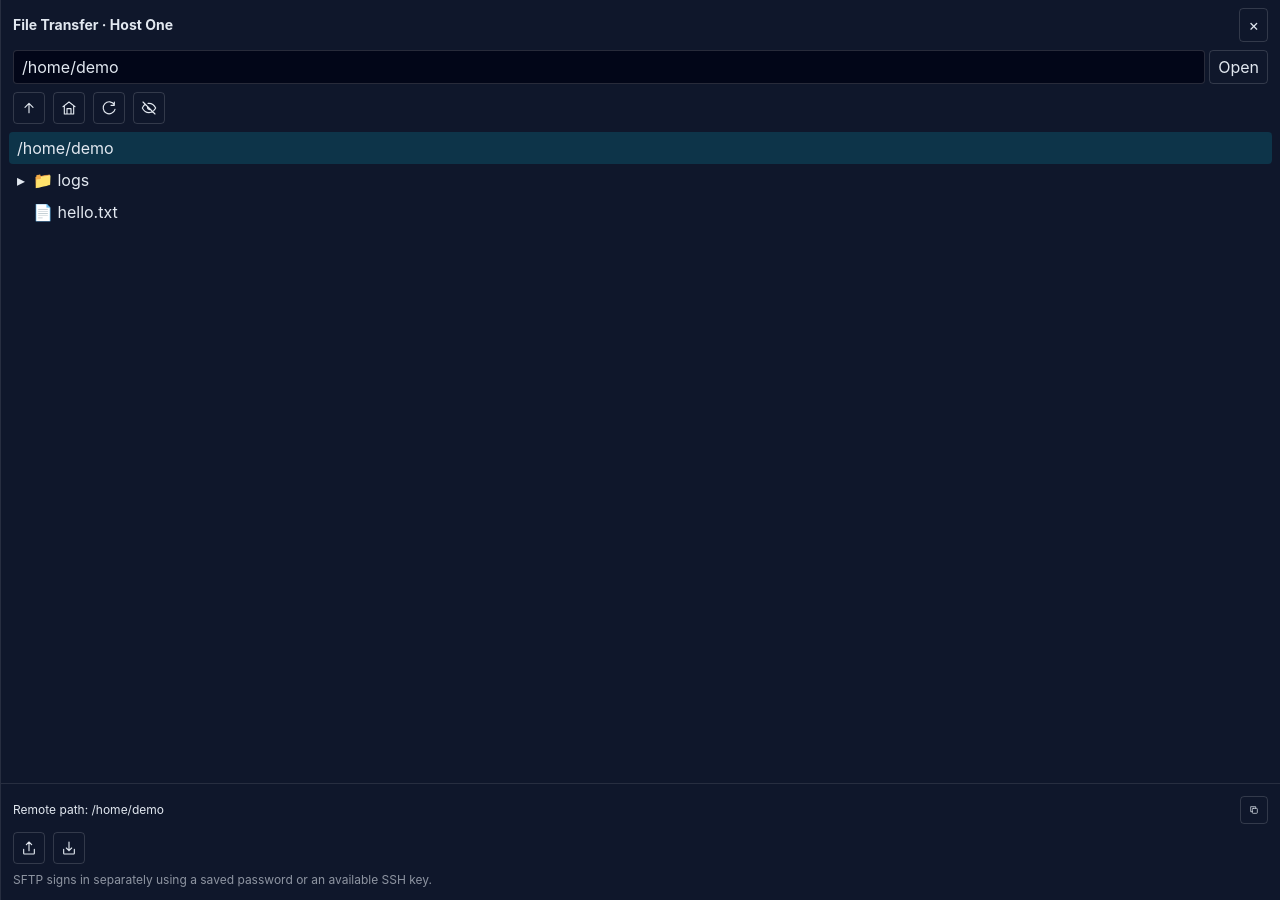
Test: RemoteFilePanel › opens file path /home/demo/logs/app.log at its parent, selects it and scrolls it into view
The width and height of the screenshot is (1280, 900).
Expected: the button "📁 logs" is shown, 33,164 -> 1272,196
Replace the text in the field named "Remote path" with "/home/demo/logs/app.log": (609, 67) 13,50 -> 1205,84
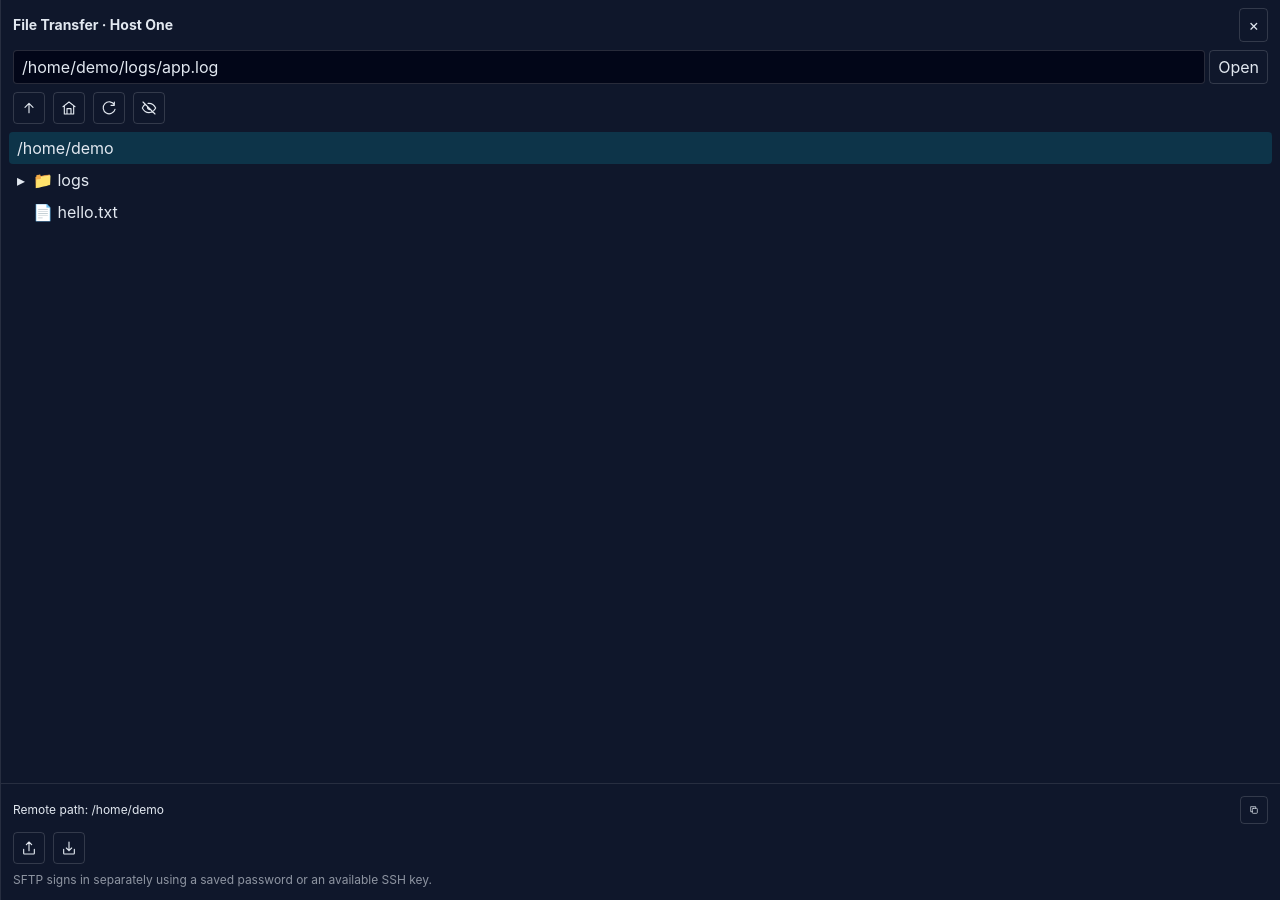
Click the button "Open": click(1239, 67) 1209,50 -> 1268,84
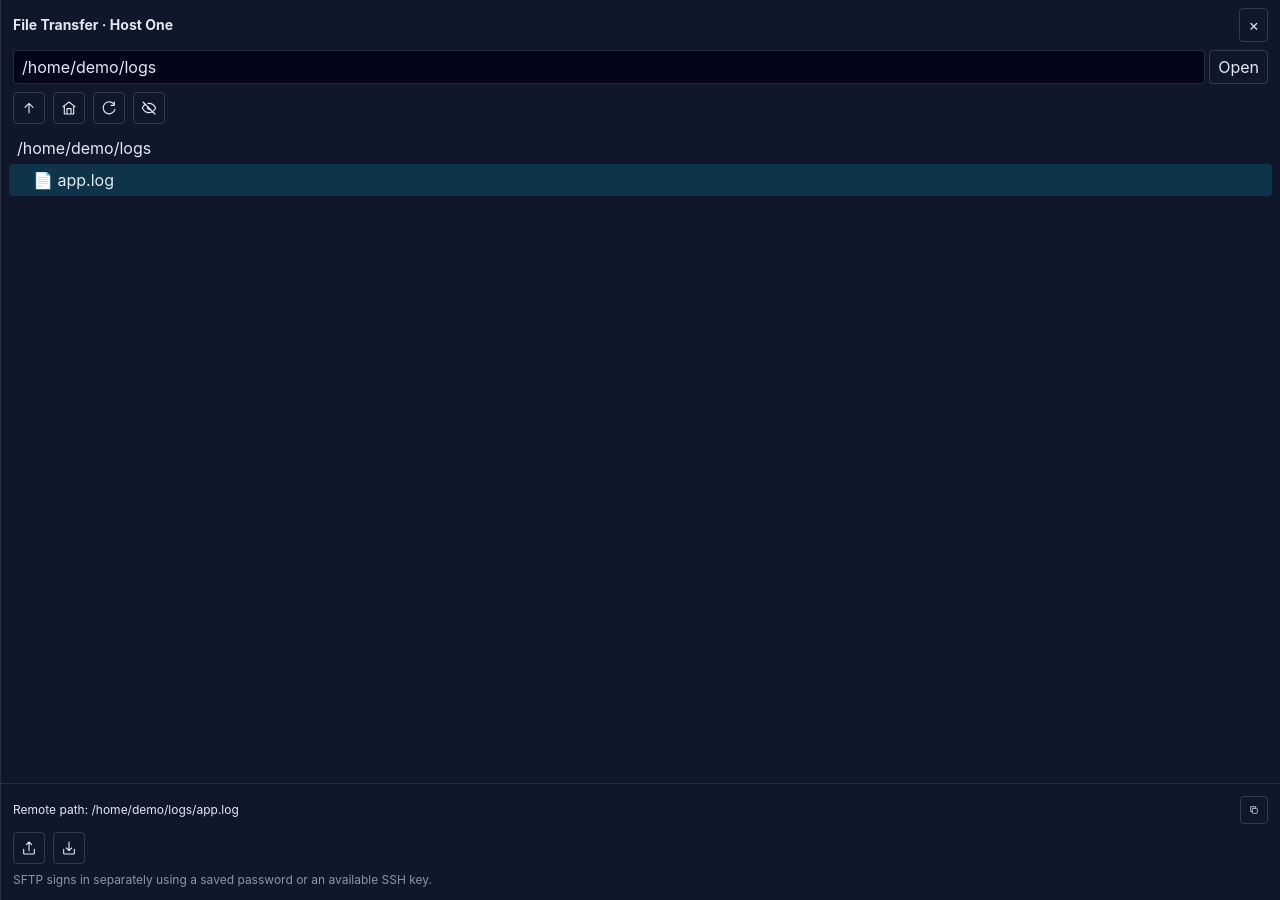
Result: the field named "Remote path" holds "/home/demo/logs" at 13,50 -> 1205,84
